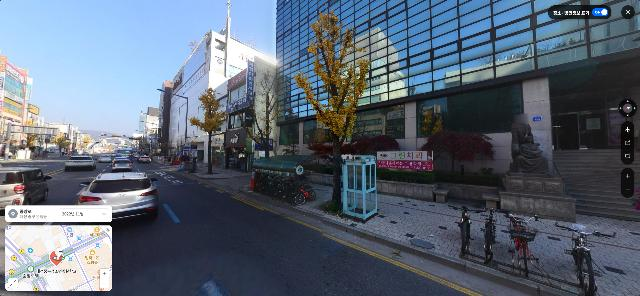ginkgo: (293, 9, 371, 210), (241, 63, 284, 184), (188, 87, 227, 174)
other: (304, 135, 401, 170), (418, 129, 495, 173)
